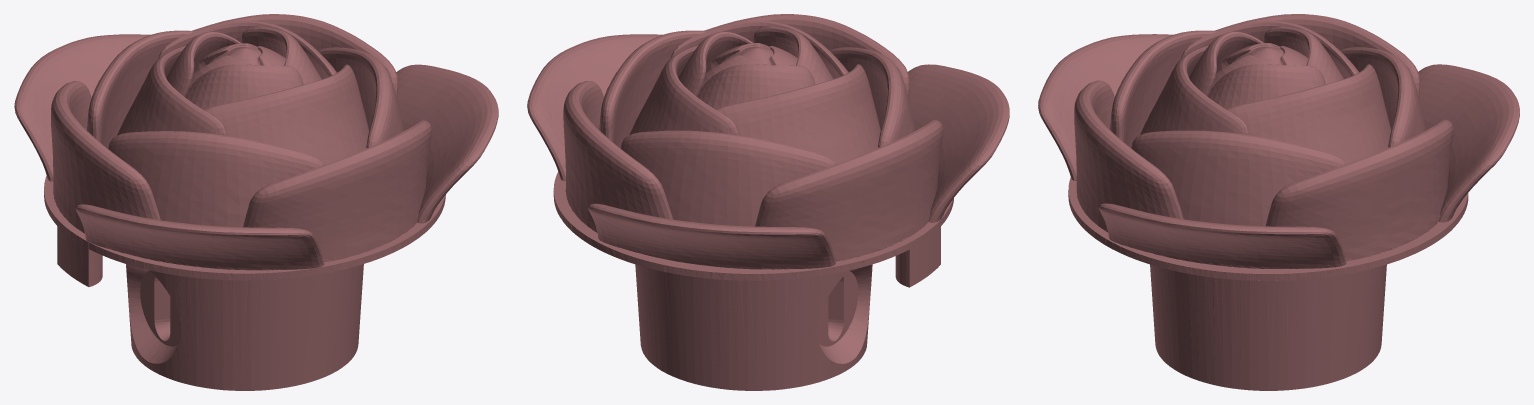
File: frontpanel_rose.glb
3 renders of one model, left to right at view 1: azimuth 30°, elevation 25°; view 2: azimuth 150°, elevation 25°; view 3: azimuth 270°, elevation 25°, orthographic.
Bounding box in the file's own units: 0.0458 × 0.0312 × 0.0458.
